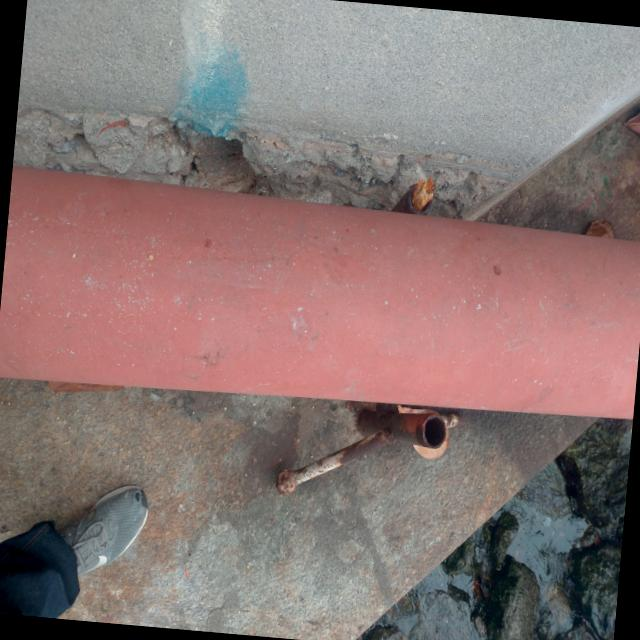gas: (0, 163, 640, 434)
